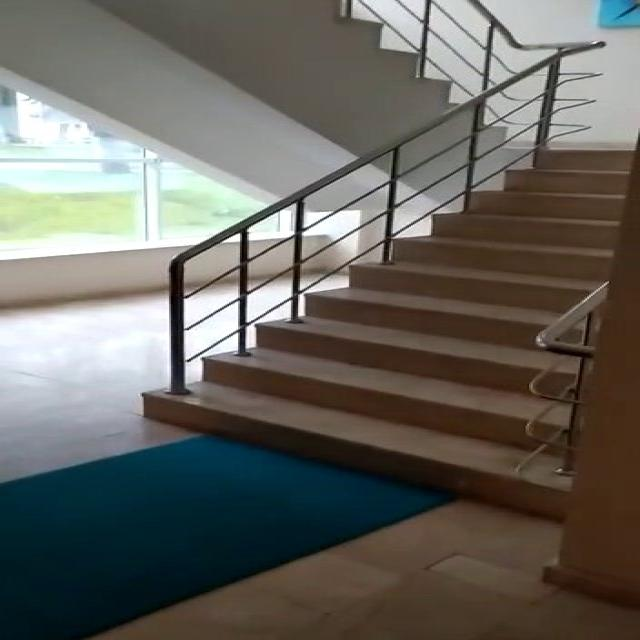upstair: (312, 83, 566, 491)
